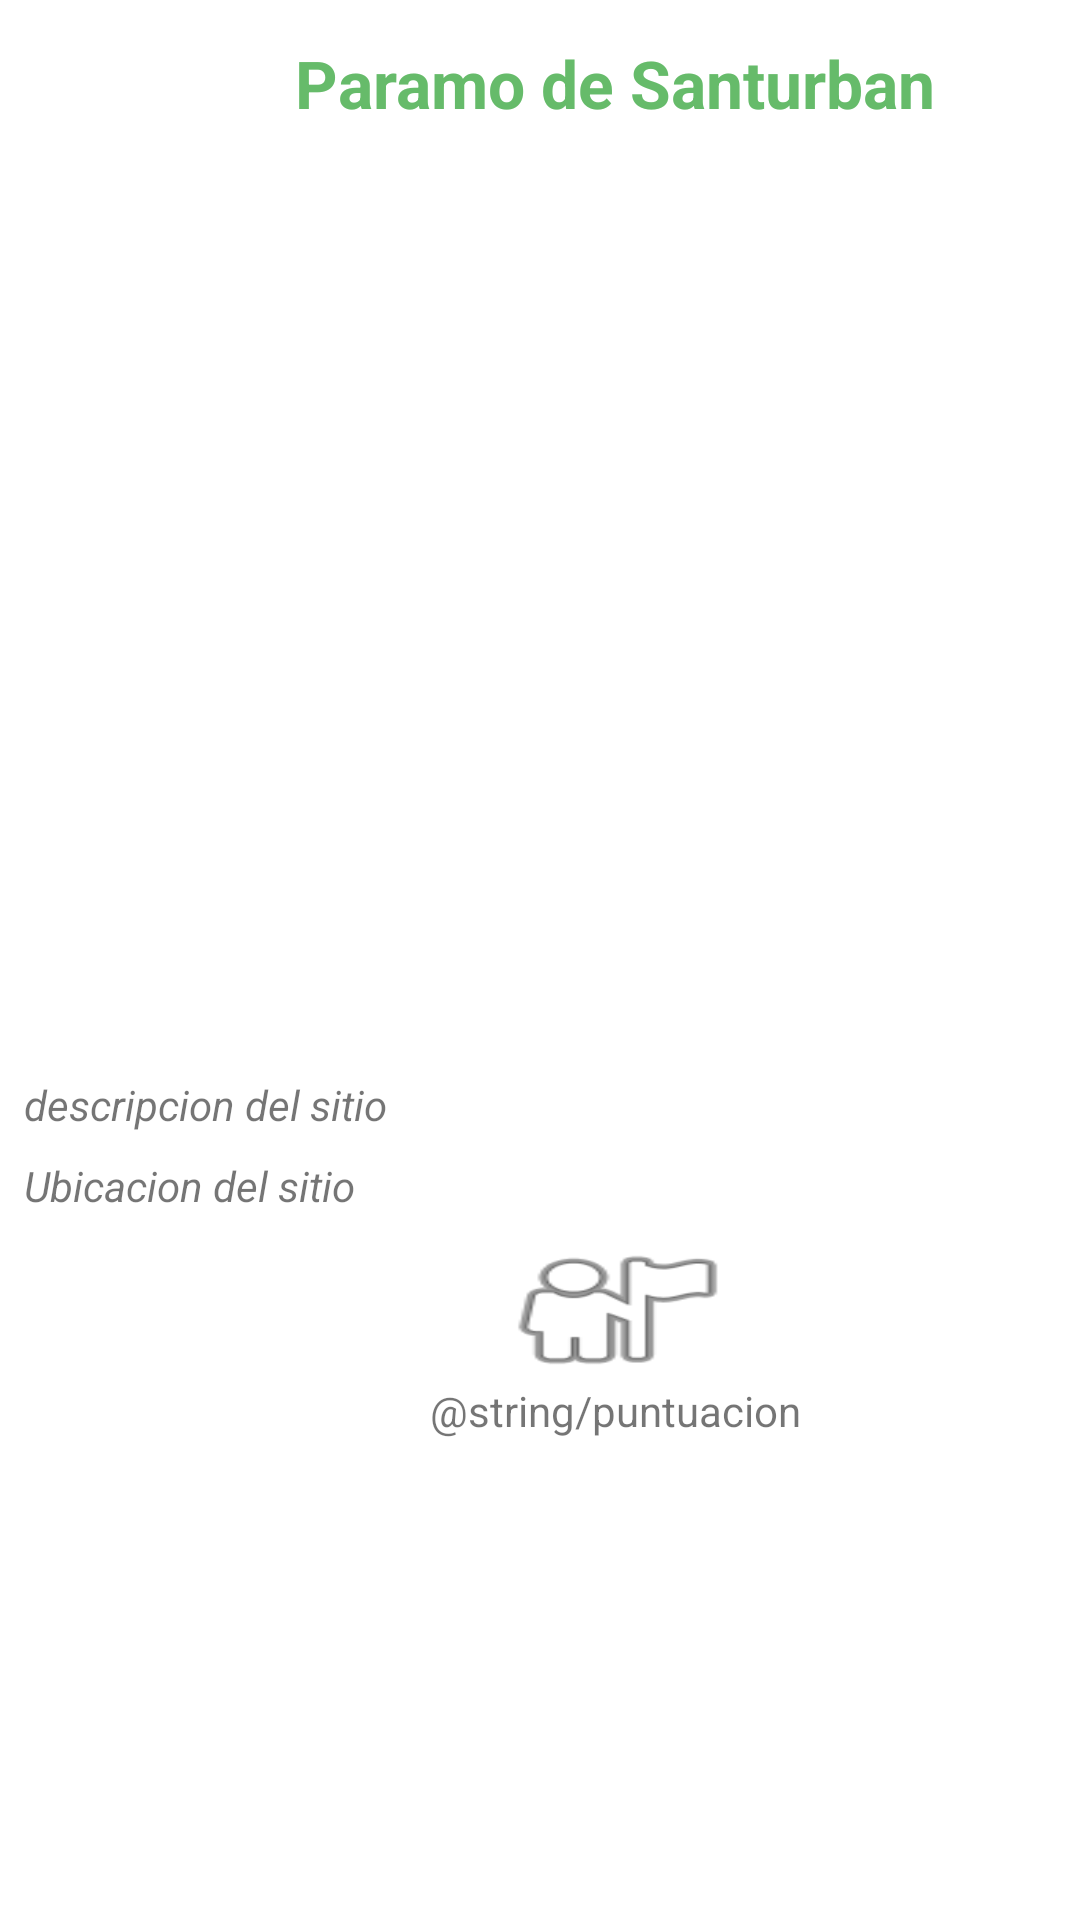

Icon click points for this 1080w x 1920h phone screenshot, format [x,y]:
myplaces: [617,1310]
